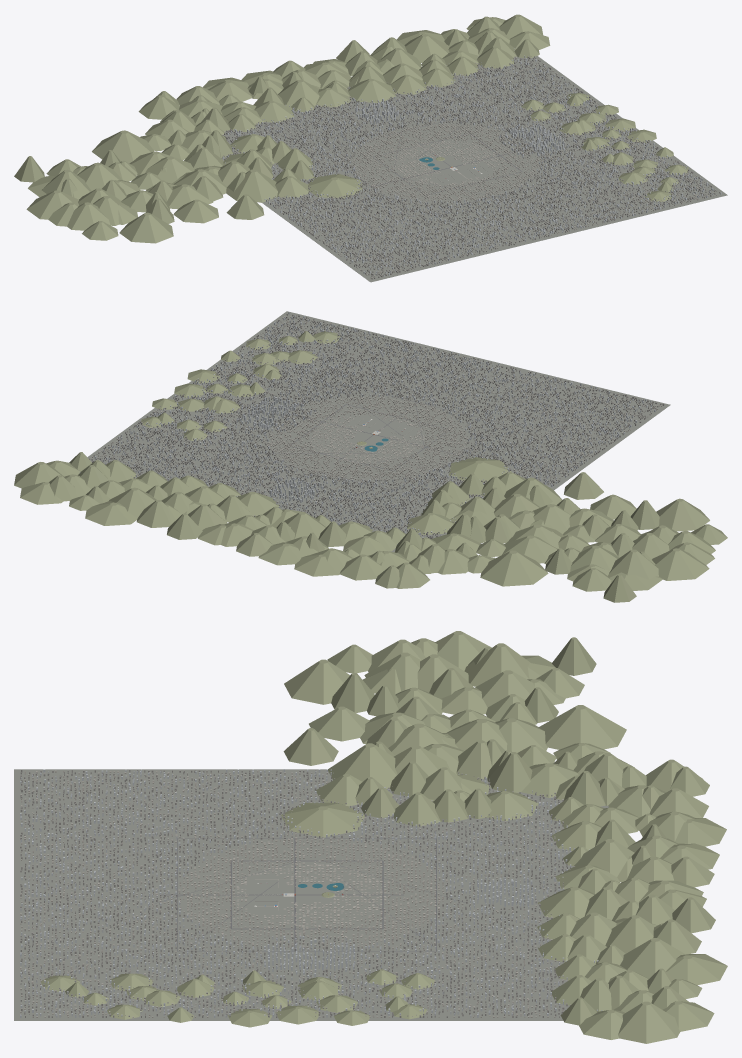
File: FC_beijing.glb
The picture shows the model from 3 angles, top to bottom: view 1: azimuth 30°, elevation 25°; view 2: azimuth 150°, elevation 25°; view 3: azimuth 270°, elevation 25°; orthographic projection. The views are drawn at different scales.
Visible parts, largest first — view 1: BJ_Mountains_w, BJ_earth, BJ_Urban_BJBlockDk, BJ_Urban_BJBlock, BJ_Urban_BJModern; view 2: BJ_Mountains_w, BJ_earth, BJ_Urban_BJBlockDk, BJ_Urban_BJBlock, BJ_Urban_BJModern; view 3: BJ_earth, BJ_Mountains_w, BJ_Urban_BJBlockDk, BJ_Urban_BJBlock, BJ_Urban_BJModern.
Boxes of the visible parts, x1,y1,x2,y2 form: BJ_Mountains_w: (14, 14, 688, 243); BJ_earth: (222, 56, 727, 282); BJ_Urban_BJBlockDk: (221, 47, 719, 279); BJ_Urban_BJBlock: (222, 56, 717, 278); BJ_Urban_BJModern: (222, 48, 721, 276); BJ_Mountains_w: (14, 331, 727, 602); BJ_earth: (87, 311, 670, 552); BJ_Urban_BJBlockDk: (79, 314, 664, 538); BJ_Urban_BJBlock: (89, 314, 662, 536); BJ_Urban_BJModern: (79, 311, 655, 544); BJ_earth: (14, 769, 608, 1020); BJ_Mountains_w: (41, 631, 727, 1043); BJ_Urban_BJBlockDk: (20, 769, 574, 1017); BJ_Urban_BJBlock: (20, 770, 574, 1017); BJ_Urban_BJModern: (20, 769, 602, 1017).
Bounding box in the file's own units: 32114 × 1097 × 23992.
